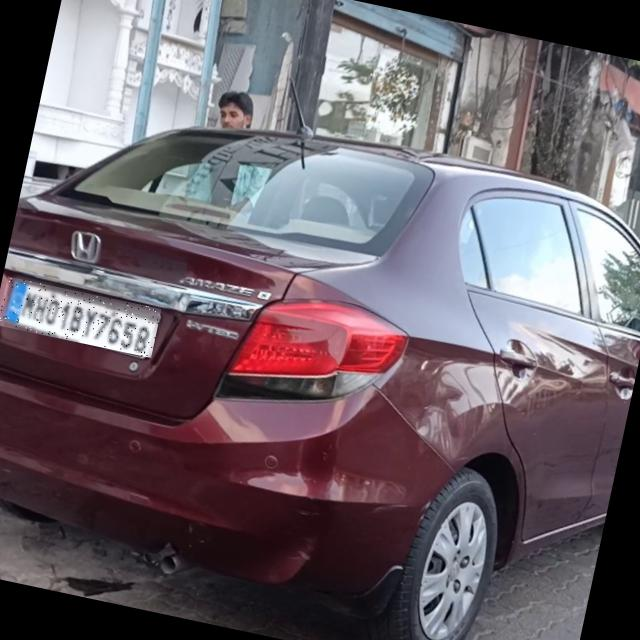Plate: (1, 277, 162, 359)
